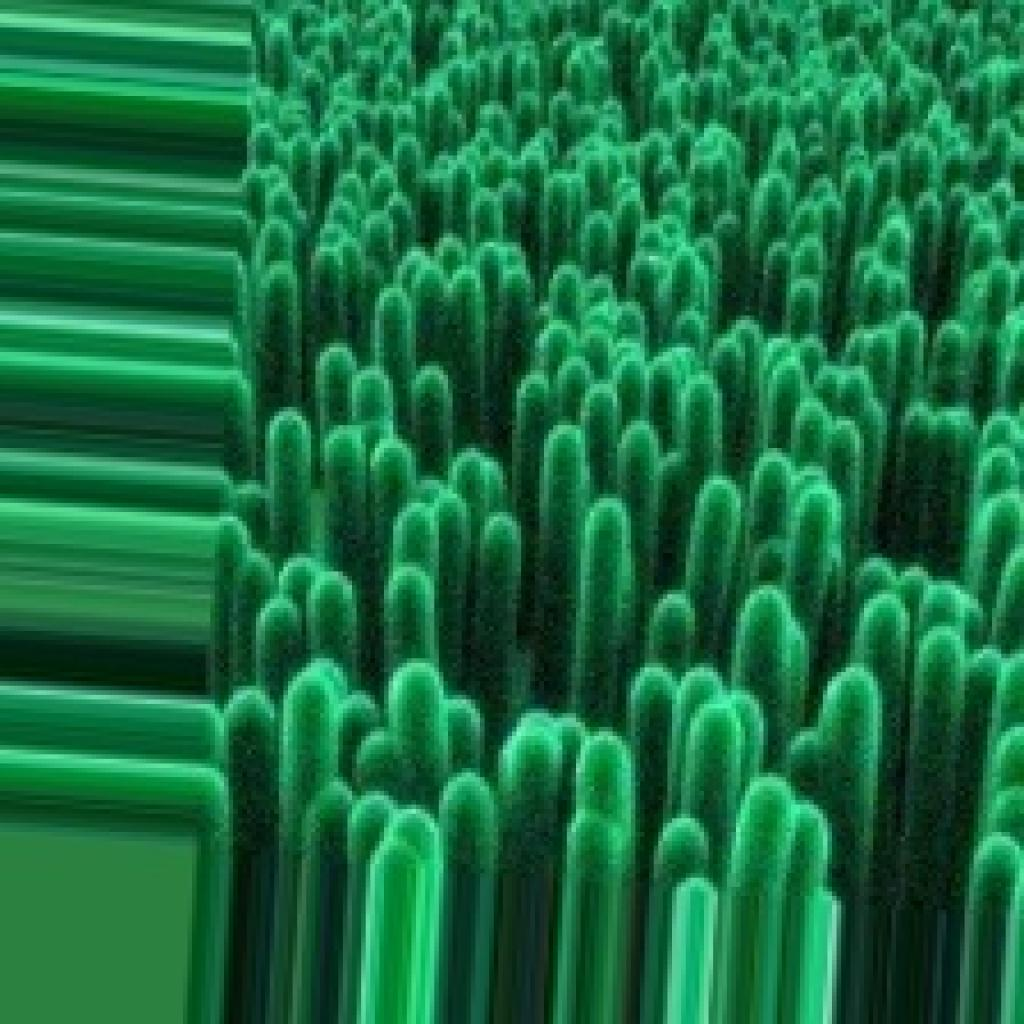Rodbacteria: (196, 0, 1019, 1019)
